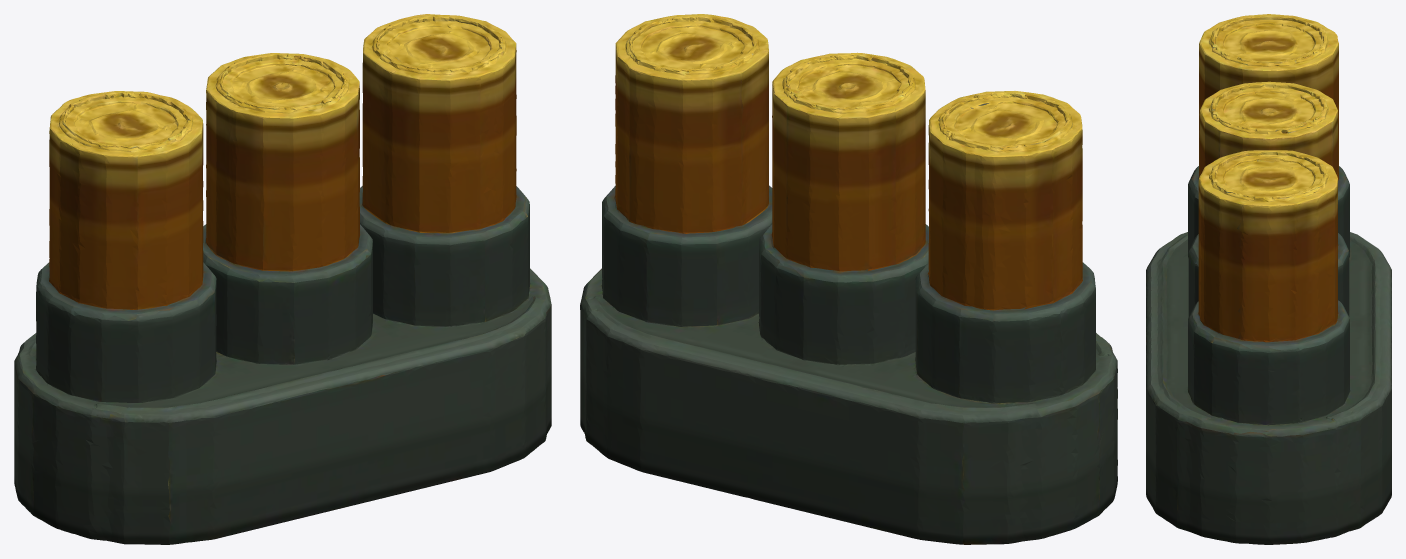
Rendered from SHELA0.obj.
3 views of the same model, side by side, from view 1: azimuth 30°, elevation 25°; view 2: azimuth 150°, elevation 25°; view 3: azimuth 270°, elevation 25° (orthographic). The views are drawn at different scales.
Visible parts, largest first — view 1: geometry_0; view 2: geometry_0; view 3: geometry_0.
Boxes of the visible parts, x1,y1,x2,y2 form: geometry_0: (14, 14, 551, 544); geometry_0: (580, 14, 1117, 544); geometry_0: (1146, 14, 1391, 544).
Bounding box in the file's own units: 1 × 0.7184 × 0.4827.
1 material, 1 textured.
